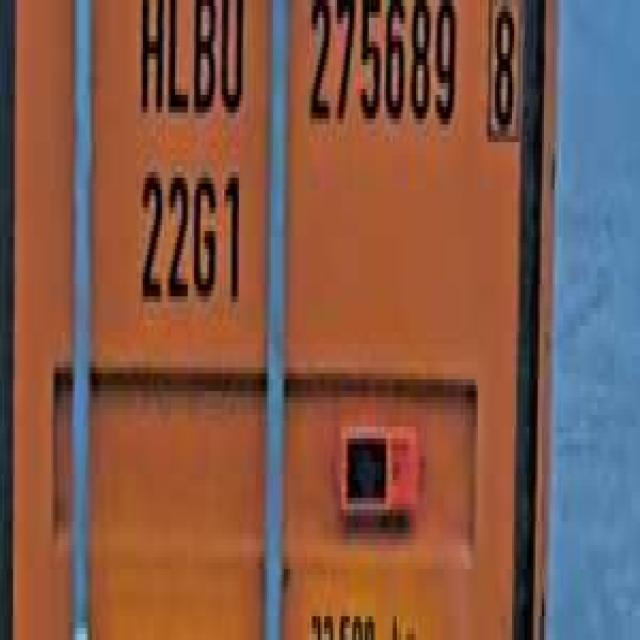dv: (482, 0, 525, 154)
owner: (136, 0, 249, 124)
serial: (301, 0, 461, 148)
size: (134, 154, 248, 320)
